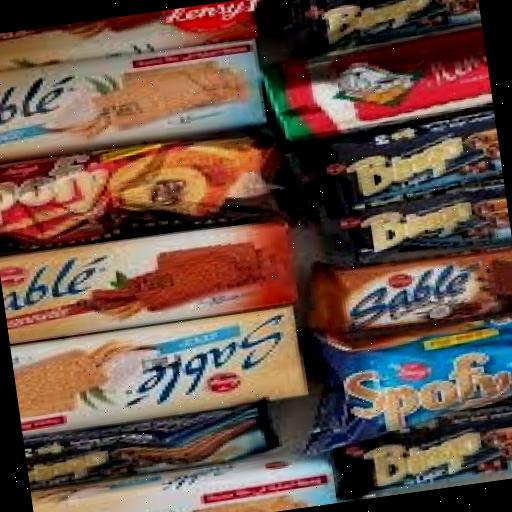golden: (226, 8, 498, 178)
